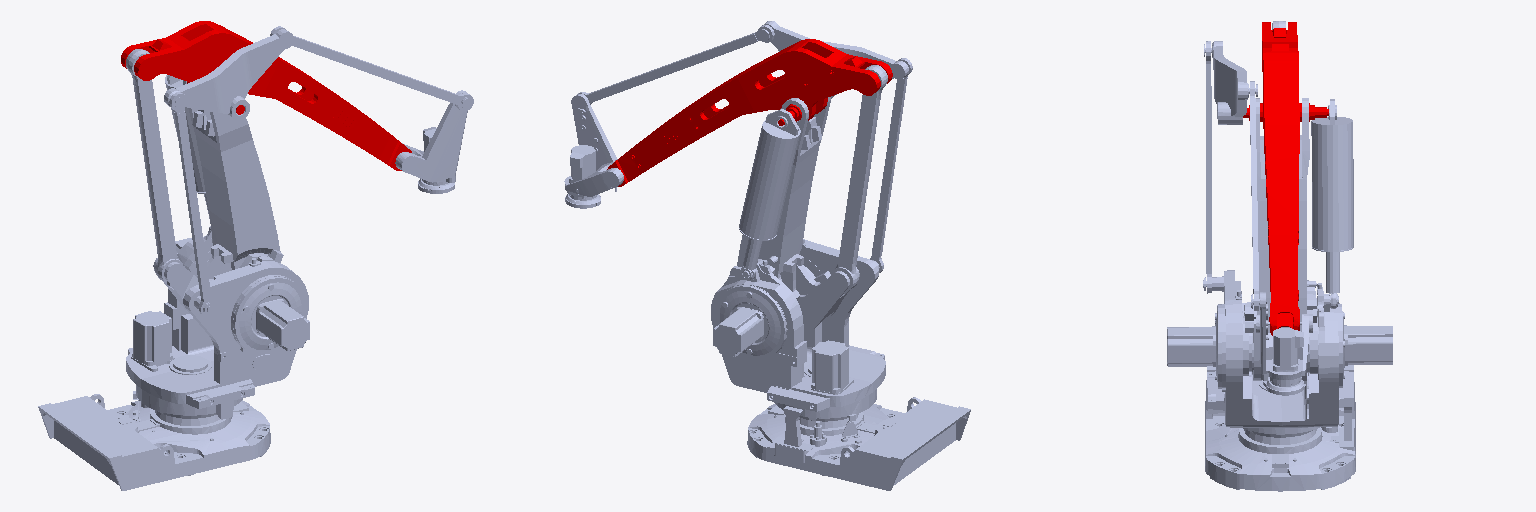
URDF robot description (final_sborka):
<?xml version="1.0" encoding="utf-8"?>
<!-- This URDF was automatically created by SolidWorks to URDF Exporter! Originally created by Stephen Brawner (brawner@gmail.com) 
     Commit Version: 1.6.0-4-g7f85cfe  Build Version: 1.6.7995.38578
     For more information, please see http://wiki.ros.org/sw_urdf_exporter -->
<robot
  name="final_sborka">
  <link
    name="base">
    <inertial>
      <origin
        xyz="-0.189258967187709 0.00401683698485132 0.0933778739605291"
        rpy="0 0 0" />
      <mass
        value="914.452079696213" />
      <inertia
        ixx="42.9246512496277"
        ixy="-0.605649329688648"
        ixz="3.33779293763624"
        iyy="78.7593849939863"
        iyz="-0.352619496721266"
        izz="116.021952346145" />
    </inertial>
    <visual>
      <origin
        xyz="0 0 0"
        rpy="0 0 0" />
      <geometry>
        <mesh
          filename="package://final_sborka/meshes/base.STL" />
      </geometry>
      <material
        name="">
        <color
          rgba="0.792156862745098 0.819607843137255 0.933333333333333 1" />
      </material>
    </visual>
    <collision>
      <origin
        xyz="0 0 0"
        rpy="0 0 0" />
      <geometry>
        <mesh
          filename="package://final_sborka/meshes/base.STL" />
      </geometry>
    </collision>
  </link>
  <link
    name="head">
    <inertial>
      <origin
        xyz="0.167293278145868 0.585343468258329 -0.00324788777630395"
        rpy="0 0 0" />
      <mass
        value="1379.53014449147" />
      <inertia
        ixx="153.921385556792"
        ixy="-31.5023748680868"
        ixz="-1.78310212073498"
        iyy="138.0791210482"
        iyz="-3.37293983714756"
        izz="125.935035255513" />
    </inertial>
    <visual>
      <origin
        xyz="0 0 0"
        rpy="0 0 0" />
      <geometry>
        <mesh
          filename="package://final_sborka/meshes/head.STL" />
      </geometry>
      <material
        name="">
        <color
          rgba="0.792156862745098 0.819607843137255 0.933333333333333 1" />
      </material>
    </visual>
    <collision>
      <origin
        xyz="0 0 0"
        rpy="0 0 0" />
      <geometry>
        <mesh
          filename="package://final_sborka/meshes/head.STL" />
      </geometry>
    </collision>
  </link>
  <joint
    name="motor1"
    type="revolute">
    <origin
      xyz="0 0 0.01"
      rpy="1.5707963267949 0 0" />
    <parent
      link="base" />
    <child
      link="head" />
    <axis
      xyz="0 -1 0" />
    <limit
      lower="0"
      upper="0"
      effort="0"
      velocity="0" />
  </joint>
  <link
    name="high_arm">
    <inertial>
      <origin
        xyz="-0.0125538226301623 0.59106591173716 0.0697985008768212"
        rpy="0 0 0" />
      <mass
        value="454.868573434854" />
      <inertia
        ixx="51.6918173053612"
        ixy="8.0042549282528"
        ixz="0.137496877784801"
        iyy="7.55814264251547"
        iyz="-2.42343580206584"
        izz="52.2427728510625" />
    </inertial>
    <visual>
      <origin
        xyz="0 0 0"
        rpy="0 0 0" />
      <geometry>
        <mesh
          filename="package://final_sborka/meshes/high_arm.STL" />
      </geometry>
      <material
        name="">
        <color
          rgba="0.792156862745098 0.819607843137255 0.933333333333333 1" />
      </material>
    </visual>
    <collision>
      <origin
        xyz="0 0 0"
        rpy="0 0 0" />
      <geometry>
        <mesh
          filename="package://final_sborka/meshes/high_arm.STL" />
      </geometry>
    </collision>
  </link>
  <joint
    name="motor2"
    type="revolute">
    <origin
      xyz="0.298483293510032 0.790000000000002 -0.0850174893503438"
      rpy="0 0 0" />
    <parent
      link="head" />
    <child
      link="high_arm" />
    <axis
      xyz="-0.0184366731924179 0 -0.999830030095914" />
    <limit
      lower="0"
      upper="0"
      effort="0"
      velocity="0" />
  </joint>
  <link
    name="low_arm">
    <inertial>
      <origin
        xyz="0.274408142045992 -0.0131956359032004 0.0411711891356362"
        rpy="0 0 0" />
      <mass
        value="360.816144658962" />
      <inertia
        ixx="24.9318502226962"
        ixy="33.9240100401785"
        ixz="1.08037492891662"
        iyy="61.5377068355178"
        iyz="-0.577421257395586"
        izz="83.1017138943963" />
    </inertial>
    <visual>
      <origin
        xyz="0 0 0"
        rpy="0 0 0" />
      <geometry>
        <mesh
          filename="package://final_sborka/meshes/low_arm.STL" />
      </geometry>
      <material
        name="">
        <color
          rgba="0.996078431372549 0 0 1" />
      </material>
    </visual>
    <collision>
      <origin
        xyz="0 0 0"
        rpy="0 0 0" />
      <geometry>
        <mesh
          filename="package://final_sborka/meshes/low_arm.STL" />
      </geometry>
    </collision>
  </link>
  <joint
    name="axis7"
    type="revolute">
    <origin
      xyz="-0.183119759358241 1.26673687699035 0.0378825580531297"
      rpy="0 0 0" />
    <parent
      link="high_arm" />
    <child
      link="low_arm" />
    <axis
      xyz="0.0184366731924141 0 0.999830030095914" />
    <limit
      lower="0"
      upper="0"
      effort="0"
      velocity="0" />
  </joint>
  <link
    name="pre_gripper">
    <inertial>
      <origin
        xyz="0.20954894518862 -0.0452690692274145 0.166160819403578"
        rpy="0 0 0" />
      <mass
        value="89.9365732719352" />
      <inertia
        ixx="1.60730025120458"
        ixy="-0.103125129378045"
        ixz="-0.110975951476438"
        iyy="1.4034911436931"
        iyz="-0.275036176061164"
        izz="1.89000578748732" />
    </inertial>
    <visual>
      <origin
        xyz="0 0 0"
        rpy="0 0 0" />
      <geometry>
        <mesh
          filename="package://final_sborka/meshes/pre_gripper.STL" />
      </geometry>
      <material
        name="">
        <color
          rgba="0.792156862745098 0.819607843137255 0.933333333333333 1" />
      </material>
    </visual>
    <collision>
      <origin
        xyz="0 0 0"
        rpy="0 0 0" />
      <geometry>
        <mesh
          filename="package://final_sborka/meshes/pre_gripper.STL" />
      </geometry>
    </collision>
  </link>
  <joint
    name="axis14"
    type="revolute">
    <origin
      xyz="1.1660316441599 -0.676833423725695 -0.121518398825989"
      rpy="0 0 0" />
    <parent
      link="low_arm" />
    <child
      link="pre_gripper" />
    <axis
      xyz="-0.018436673192416 0 -0.999830030095914" />
    <limit
      lower="0"
      upper="0"
      effort="0"
      velocity="0" />
  </joint>
  <link
    name="gripper">
    <inertial>
      <origin
        xyz="-0.000561851059435625 0.0172675047696069 2.52764939984926E-05"
        rpy="0 0 0" />
      <mass
        value="6.84022861396891" />
      <inertia
        ixx="0.0186605164945425"
        ixy="-2.77437150651245E-05"
        ixz="1.32873936964126E-06"
        iyy="0.0364132891201877"
        iyz="-2.61338960666571E-06"
        izz="0.0189277907619224" />
    </inertial>
    <visual>
      <origin
        xyz="0 0 0"
        rpy="0 0 0" />
      <geometry>
        <mesh
          filename="package://final_sborka/meshes/gripper.STL" />
      </geometry>
      <material
        name="">
        <color
          rgba="0.792156862745098 0.819607843137255 0.933333333333333 1" />
      </material>
    </visual>
    <collision>
      <origin
        xyz="0 0 0"
        rpy="0 0 0" />
      <geometry>
        <mesh
          filename="package://final_sborka/meshes/gripper.STL" />
      </geometry>
    </collision>
  </link>
  <joint
    name="axis15"
    type="revolute">
    <origin
      xyz="0.26268 -0.249 0.14318"
      rpy="0 0 0" />
    <parent
      link="pre_gripper" />
    <child
      link="gripper" />
    <axis
      xyz="0 -1 0" />
    <limit
      lower="0"
      upper="0"
      effort="0"
      velocity="0" />
  </joint>
  <link
    name="help3">
    <inertial>
      <origin
        xyz="-0.583049237925413 0.338416711876481 0.0589470419787836"
        rpy="0 0 0" />
      <mass
        value="17.1868398415231" />
      <inertia
        ixx="0.778644038828018"
        ixy="1.33159681086971"
        ixz="0.0424367741456565"
        iyy="2.30459458353688"
        iyz="-0.0245543887331749"
        izz="3.07922904966382" />
    </inertial>
    <visual>
      <origin
        xyz="0 0 0"
        rpy="0 0 0" />
      <geometry>
        <mesh
          filename="package://final_sborka/meshes/help3.STL" />
      </geometry>
      <material
        name="">
        <color
          rgba="0.792156862745098 0.819607843137255 0.933333333333333 1" />
      </material>
    </visual>
    <collision>
      <origin
        xyz="0 0 0"
        rpy="0 0 0" />
      <geometry>
        <mesh
          filename="package://final_sborka/meshes/help3.STL" />
      </geometry>
    </collision>
  </link>
  <joint
    name="axis13"
    type="revolute">
    <origin
      xyz="0.34932 0.28925 0.24625"
      rpy="0 0 0" />
    <parent
      link="pre_gripper" />
    <child
      link="help3" />
    <axis
      xyz="0.018437 0 0.99983" />
    <limit
      lower="0"
      upper="0"
      effort="0"
      velocity="0" />
  </joint>
  <link
    name="help2">
    <inertial>
      <origin
        xyz="-0.0253899829646354 0.148491590960334 -0.0678708397431304"
        rpy="0 0 0" />
      <mass
        value="69.5137975317228" />
      <inertia
        ixx="0.750879863071479"
        ixy="-0.345699009767701"
        ixz="0.649247159049298"
        iyy="2.84350554962448"
        iyz="0.102974176315268"
        izz="3.17693783707243" />
    </inertial>
    <visual>
      <origin
        xyz="0 0 0"
        rpy="0 0 0" />
      <geometry>
        <mesh
          filename="package://final_sborka/meshes/help2.STL" />
      </geometry>
      <material
        name="">
        <color
          rgba="0.792156862745098 0.819607843137255 0.933333333333333 1" />
      </material>
    </visual>
    <collision>
      <origin
        xyz="0 0 0"
        rpy="0 0 0" />
      <geometry>
        <mesh
          filename="package://final_sborka/meshes/help2.STL" />
      </geometry>
    </collision>
  </link>
  <joint
    name="axis9"
    type="revolute">
    <origin
      xyz="-0.17617 1.2667 0.41497"
      rpy="0 0 0" />
    <parent
      link="high_arm" />
    <child
      link="help2" />
    <axis
      xyz="-0.018437 0 -0.99983" />
    <limit
      lower="0"
      upper="0"
      effort="0"
      velocity="0" />
  </joint>
  <link
    name="help1">
    <inertial>
      <origin
        xyz="-0.0924724950023973 0.633368438495262 -0.0305503074631769"
        rpy="0 0 0" />
      <mass
        value="16.3678398415228" />
      <inertia
        ixx="2.60129431281365"
        ixy="0.376489311560619"
        ixz="0.00107327050369006"
        iyy="0.0605454591965984"
        iyz="-0.00694239039513931"
        izz="2.65947851939066" />
    </inertial>
    <visual>
      <origin
        xyz="0 0 0"
        rpy="0 0 0" />
      <geometry>
        <mesh
          filename="package://final_sborka/meshes/help1.STL" />
      </geometry>
      <material
        name="">
        <color
          rgba="0.792156862745098 0.819607843137255 0.933333333333333 1" />
      </material>
    </visual>
    <collision>
      <origin
        xyz="0 0 0"
        rpy="0 0 0" />
      <geometry>
        <mesh
          filename="package://final_sborka/meshes/help1.STL" />
      </geometry>
    </collision>
  </link>
  <joint
    name="axis4"
    type="revolute">
    <origin
      xyz="-0.10975 0.95857 0.40684"
      rpy="0 0 0" />
    <parent
      link="head" />
    <child
      link="help1" />
    <axis
      xyz="0.018437 0 0.99983" />
    <limit
      lower="0"
      upper="0"
      effort="0"
      velocity="0" />
  </joint>
  <link
    name="help2_1">
    <inertial>
      <origin
        xyz="0.390568841656738 -0.0200813760768281 -0.14080213277906"
        rpy="0 0 0" />
      <mass
        value="69.5137975317228" />
      <inertia
        ixx="0.750879863071479"
        ixy="-0.345699009767701"
        ixz="0.649247159049298"
        iyy="2.84350554962448"
        iyz="0.102974176315268"
        izz="3.17693783707243" />
    </inertial>
    <visual>
      <origin
        xyz="0 0 0"
        rpy="0 0 0" />
      <geometry>
        <mesh
          filename="package://final_sborka/meshes/help2_1.STL" />
      </geometry>
      <material
        name="">
        <color
          rgba="0.792156862745098 0.819607843137255 0.933333333333333 1" />
      </material>
    </visual>
    <collision>
      <origin
        xyz="0 0 0"
        rpy="0 0 0" />
      <geometry>
        <mesh
          filename="package://final_sborka/meshes/help2_1.STL" />
      </geometry>
    </collision>
  </link>
  <joint
    name="axis10"
    type="revolute">
    <origin
      xyz="-0.18389 1.2667 -0.0039623"
      rpy="0 0 0" />
    <parent
      link="help1" />
    <child
      link="help2_1" />
    <axis
      xyz="0.018437 0 0.99983" />
    <limit
      lower="0"
      upper="0"
      effort="0"
      velocity="0" />
  </joint>
  <link
    name="help3_1">
    <inertial>
      <origin
        xyz="0.584457329359857 -0.338416711874956 0.0174144623294639"
        rpy="0 0 0" />
      <mass
        value="17.1868398415231" />
      <inertia
        ixx="0.778644038828018"
        ixy="1.33159681086971"
        ixz="0.0424367741456565"
        iyy="2.30459458353688"
        iyz="-0.0245543887331749"
        izz="3.07922904966382" />
    </inertial>
    <visual>
      <origin
        xyz="0 0 0"
        rpy="0 0 0" />
      <geometry>
        <mesh
          filename="package://final_sborka/meshes/help3_1.STL" />
      </geometry>
      <material
        name="">
        <color
          rgba="0.792156862745098 0.819607843137255 0.933333333333333 1" />
      </material>
    </visual>
    <collision>
      <origin
        xyz="0 0 0"
        rpy="0 0 0" />
      <geometry>
        <mesh
          filename="package://final_sborka/meshes/help3_1.STL" />
      </geometry>
    </collision>
  </link>
  <joint
    name="axis12"
    type="revolute">
    <origin
      xyz="0.75685 0.12068 -0.28375"
      rpy="0 0 0" />
    <parent
      link="help2_1" />
    <child
      link="help3_1" />
    <axis
      xyz="0.018437 0 0.99983" />
    <limit
      lower="0"
      upper="0"
      effort="0"
      velocity="0" />
  </joint>
  <link
    name="dop1">
    <inertial>
      <origin
        xyz="-0.141561810828703 0.0644155695503942 -0.0420819776959843"
        rpy="0 0 0" />
      <mass
        value="110.214713715685" />
      <inertia
        ixx="2.05616742026142"
        ixy="0.324477062726205"
        ixz="-0.835406048394447"
        iyy="4.0708304167973"
        iyz="-0.0219607886166647"
        izz="4.70693887213929" />
    </inertial>
    <visual>
      <origin
        xyz="0 0 0"
        rpy="0 0 0" />
      <geometry>
        <mesh
          filename="package://final_sborka/meshes/dop1.STL" />
      </geometry>
      <material
        name="">
        <color
          rgba="0.792156862745098 0.819607843137255 0.933333333333333 1" />
      </material>
    </visual>
    <collision>
      <origin
        xyz="0 0 0"
        rpy="0 0 0" />
      <geometry>
        <mesh
          filename="package://final_sborka/meshes/dop1.STL" />
      </geometry>
    </collision>
  </link>
  <joint
    name="motor3"
    type="revolute">
    <origin
      xyz="0.30186 0.79 0.097951"
      rpy="0 0 0" />
    <parent
      link="head" />
    <child
      link="dop1" />
    <axis
      xyz="-0.018437 0 -0.99983" />
    <limit
      lower="0"
      upper="0"
      effort="0"
      velocity="0" />
  </joint>
  <link
    name="dop2">
    <inertial>
      <origin
        xyz="-0.0905111329206181 0.63336879669198 0.0756815877261638"
        rpy="0 0 0" />
      <mass
        value="61.6510325279006" />
      <inertia
        ixx="11.4397260827517"
        ixy="1.64862186582773"
        ixz="0.00513942605479094"
        iyy="0.313946505328943"
        iyz="-0.030398590209436"
        izz="11.7183581810312" />
    </inertial>
    <visual>
      <origin
        xyz="0 0 0"
        rpy="0 0 0" />
      <geometry>
        <mesh
          filename="package://final_sborka/meshes/dop2.STL" />
      </geometry>
      <material
        name="">
        <color
          rgba="0.792156862745098 0.819607843137255 0.933333333333333 1" />
      </material>
    </visual>
    <collision>
      <origin
        xyz="0 0 0"
        rpy="0 0 0" />
      <geometry>
        <mesh
          filename="package://final_sborka/meshes/dop2.STL" />
      </geometry>
    </collision>
  </link>
  <joint
    name="axis6"
    type="revolute">
    <origin
      xyz="-0.43582 0.25068 -0.16949"
      rpy="0 0 0" />
    <parent
      link="dop1" />
    <child
      link="dop2" />
    <axis
      xyz="-0.018437 0 -0.99983" />
    <limit
      lower="0"
      upper="0"
      effort="0"
      velocity="0" />
  </joint>
  <link
    name="low_arm_2">
    <inertial>
      <origin
        xyz="0.707830295719405 -0.263874681755723 0.0806870430398992"
        rpy="0 0 0" />
      <mass
        value="360.816144658962" />
      <inertia
        ixx="24.9318502226962"
        ixy="33.9240100401785"
        ixz="1.08037492891662"
        iyy="61.5377068355178"
        iyz="-0.577421257395585"
        izz="83.1017138943963" />
    </inertial>
    <visual>
      <origin
        xyz="0 0 0"
        rpy="0 0 0" />
      <geometry>
        <mesh
          filename="package://final_sborka/meshes/low_arm_2.STL" />
      </geometry>
      <material
        name="">
        <color
          rgba="0.996078431372549 0 0 1" />
      </material>
    </visual>
    <collision>
      <origin
        xyz="0 0 0"
        rpy="0 0 0" />
      <geometry>
        <mesh
          filename="package://final_sborka/meshes/low_arm_2.STL" />
      </geometry>
    </collision>
  </link>
  <joint
    name="axis11"
    type="revolute">
    <origin
      xyz="-0.1841 1.2667 -0.015108"
      rpy="0 0 0" />
    <parent
      link="dop2" />
    <child
      link="low_arm_2" />
    <axis
      xyz="0.018437 0 0.99983" />
    <limit
      lower="0"
      upper="0"
      effort="0"
      velocity="0" />
  </joint>
  <link
    name="comp1">
    <inertial>
      <origin
        xyz="-0.112533888494436 0.498351685807878 0.0322223996823683"
        rpy="0 0 0" />
      <mass
        value="37.3155610850658" />
      <inertia
        ixx="2.87155833035234"
        ixy="0.641491358501037"
        ixz="0.00314842591180009"
        iyy="0.190163175516303"
        iyz="-0.0138344444210958"
        izz="3.01755986314652" />
    </inertial>
    <visual>
      <origin
        xyz="0 0 0"
        rpy="0 0 0" />
      <geometry>
        <mesh
          filename="package://final_sborka/meshes/comp1.STL" />
      </geometry>
      <material
        name="">
        <color
          rgba="0.792156862745098 0.819607843137255 0.933333333333333 1" />
      </material>
    </visual>
    <collision>
      <origin
        xyz="0 0 0"
        rpy="0 0 0" />
      <geometry>
        <mesh
          filename="package://final_sborka/meshes/comp1.STL" />
      </geometry>
    </collision>
  </link>
  <joint
    name="axis5"
    type="revolute">
    <origin
      xyz="0.33407 1.0722 -0.30671"
      rpy="0 0 0" />
    <parent
      link="head" />
    <child
      link="comp1" />
    <axis
      xyz="-0.018437 0 -0.99983" />
    <limit
      lower="0"
      upper="0"
      effort="0"
      velocity="0" />
  </joint>
  <link
    name="comp2">
    <inertial>
      <origin
        xyz="0.0588830408486521 -0.259486157808543 -0.00118048131798304"
        rpy="0 0 0" />
      <mass
        value="23.7708191281335" />
      <inertia
        ixx="1.49257754069052"
        ixy="0.285908113777895"
        ixz="0.00117834573565005"
        iyy="0.297616231016195"
        iyz="-0.00450858475567395"
        izz="1.56585732731436" />
    </inertial>
    <visual>
      <origin
        xyz="0 0 0"
        rpy="0 0 0" />
      <geometry>
        <mesh
          filename="package://final_sborka/meshes/comp2.STL" />
      </geometry>
      <material
        name="">
        <color
          rgba="0.792156862745098 0.819607843137255 0.933333333333333 1" />
      </material>
    </visual>
    <collision>
      <origin
        xyz="0 0 0"
        rpy="0 0 0" />
      <geometry>
        <mesh
          filename="package://final_sborka/meshes/comp2.STL" />
      </geometry>
    </collision>
  </link>
  <joint
    name="axis16"
    type="prismatic">
    <origin
      xyz="-0.20476 0.90479 0.034031"
      rpy="0 0 0" />
    <parent
      link="comp1" />
    <child
      link="comp2" />
    <axis
      xyz="-0.2213 0.9752 0.0040807" />
    <limit
      lower="0"
      upper="0"
      effort="0"
      velocity="0" />
  </joint>
  <link
    name="low_arm_1">
    <inertial>
      <origin
        xyz="0.279035747016989 -0.0131956359031857 0.292128526689712"
        rpy="0 0 0" />
      <mass
        value="360.816144658962" />
      <inertia
        ixx="24.9318502226962"
        ixy="33.9240100401785"
        ixz="1.08037492891662"
        iyy="61.5377068355178"
        iyz="-0.577421257395586"
        izz="83.1017138943963" />
    </inertial>
    <visual>
      <origin
        xyz="0 0 0"
        rpy="0 0 0" />
      <geometry>
        <mesh
          filename="package://final_sborka/meshes/low_arm_1.STL" />
      </geometry>
      <material
        name="">
        <color
          rgba="0.996078431372549 0 0 1" />
      </material>
    </visual>
    <collision>
      <origin
        xyz="0 0 0"
        rpy="0 0 0" />
      <geometry>
        <mesh
          filename="package://final_sborka/meshes/low_arm_1.STL" />
      </geometry>
    </collision>
  </link>
  <joint
    name="axis8"
    type="revolute">
    <origin
      xyz="-0.018566 0.079722 -0.025412"
      rpy="0 0 0" />
    <parent
      link="comp2" />
    <child
      link="low_arm_1" />
    <axis
      xyz="-0.018437 0 -0.99983" />
    <limit
      lower="0"
      upper="0"
      effort="0"
      velocity="0" />
  </joint>
</robot>

--- Facts derived from the render (not from the file) ---
Views: 3 orthographic renders of the robot side by side, from view 1: azimuth 30°, elevation 25°; view 2: azimuth 150°, elevation 25°; view 3: azimuth 270°, elevation 25°.
Robot: final_sborka — 17 links, 16 joints (15 revolute, 1 prismatic); root link base; default pose: every joint at zero.
Visible links, largest first — view 1: head, base, high_arm, low_arm_2, help2, dop2, pre_gripper, help1, help3, low_arm, dop1, comp2; view 2: head, base, low_arm, high_arm, comp2, dop2, pre_gripper, dop1, help1, help3_1, help2_1, help2 (+1 smaller); view 3: head, low_arm, base, comp2, high_arm, pre_gripper, help2, help1, help3, help2_1, dop1, comp1.
Link boxes in pixels (x1,y1,x2,y2): head: [126, 230, 309, 419]; base: [38, 394, 270, 490]; high_arm: [183, 80, 280, 278]; low_arm_2: [121, 24, 411, 170]; help2: [164, 29, 293, 119]; dop2: [126, 49, 182, 282]; pre_gripper: [395, 90, 472, 185]; help1: [169, 92, 216, 316]; help3: [270, 26, 473, 111]; low_arm: [121, 21, 400, 165]; dop1: [153, 250, 283, 313]; comp2: [165, 75, 205, 193]; head: [711, 239, 885, 421]; base: [747, 397, 970, 490]; low_arm: [608, 39, 892, 186]; high_arm: [737, 97, 830, 291]; comp2: [739, 109, 800, 240]; dop2: [832, 65, 887, 290]; pre_gripper: [564, 94, 623, 200]; dop1: [796, 265, 859, 333]; help1: [870, 58, 912, 272]; help3_1: [579, 26, 774, 104]; help2_1: [758, 21, 904, 98]; help2: [762, 21, 908, 96]; head: [1167, 270, 1392, 437]; low_arm: [1247, 22, 1328, 328]; base: [1205, 365, 1355, 491]; comp2: [1311, 99, 1353, 251]; high_arm: [1256, 98, 1316, 383]; pre_gripper: [1251, 292, 1312, 386]; help2: [1204, 41, 1257, 118]; help1: [1206, 41, 1211, 293]; help3: [1250, 81, 1258, 305]; help2_1: [1204, 44, 1257, 124]; dop1: [1244, 302, 1261, 380]; comp1: [1326, 252, 1339, 308].
Bounding box of the posed robot: 2.41 × 1.19 × 2.43 m (x, y, z).
Meshes: 17 distinct files referenced, 17 mesh visuals loaded (17 binary STL).
